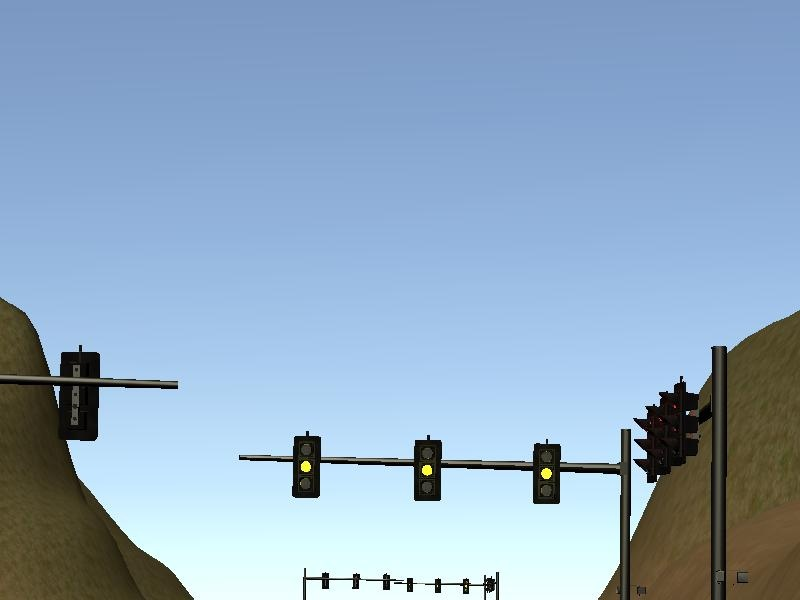yellow: (293, 435, 322, 499), (532, 443, 561, 505), (414, 440, 442, 502)
